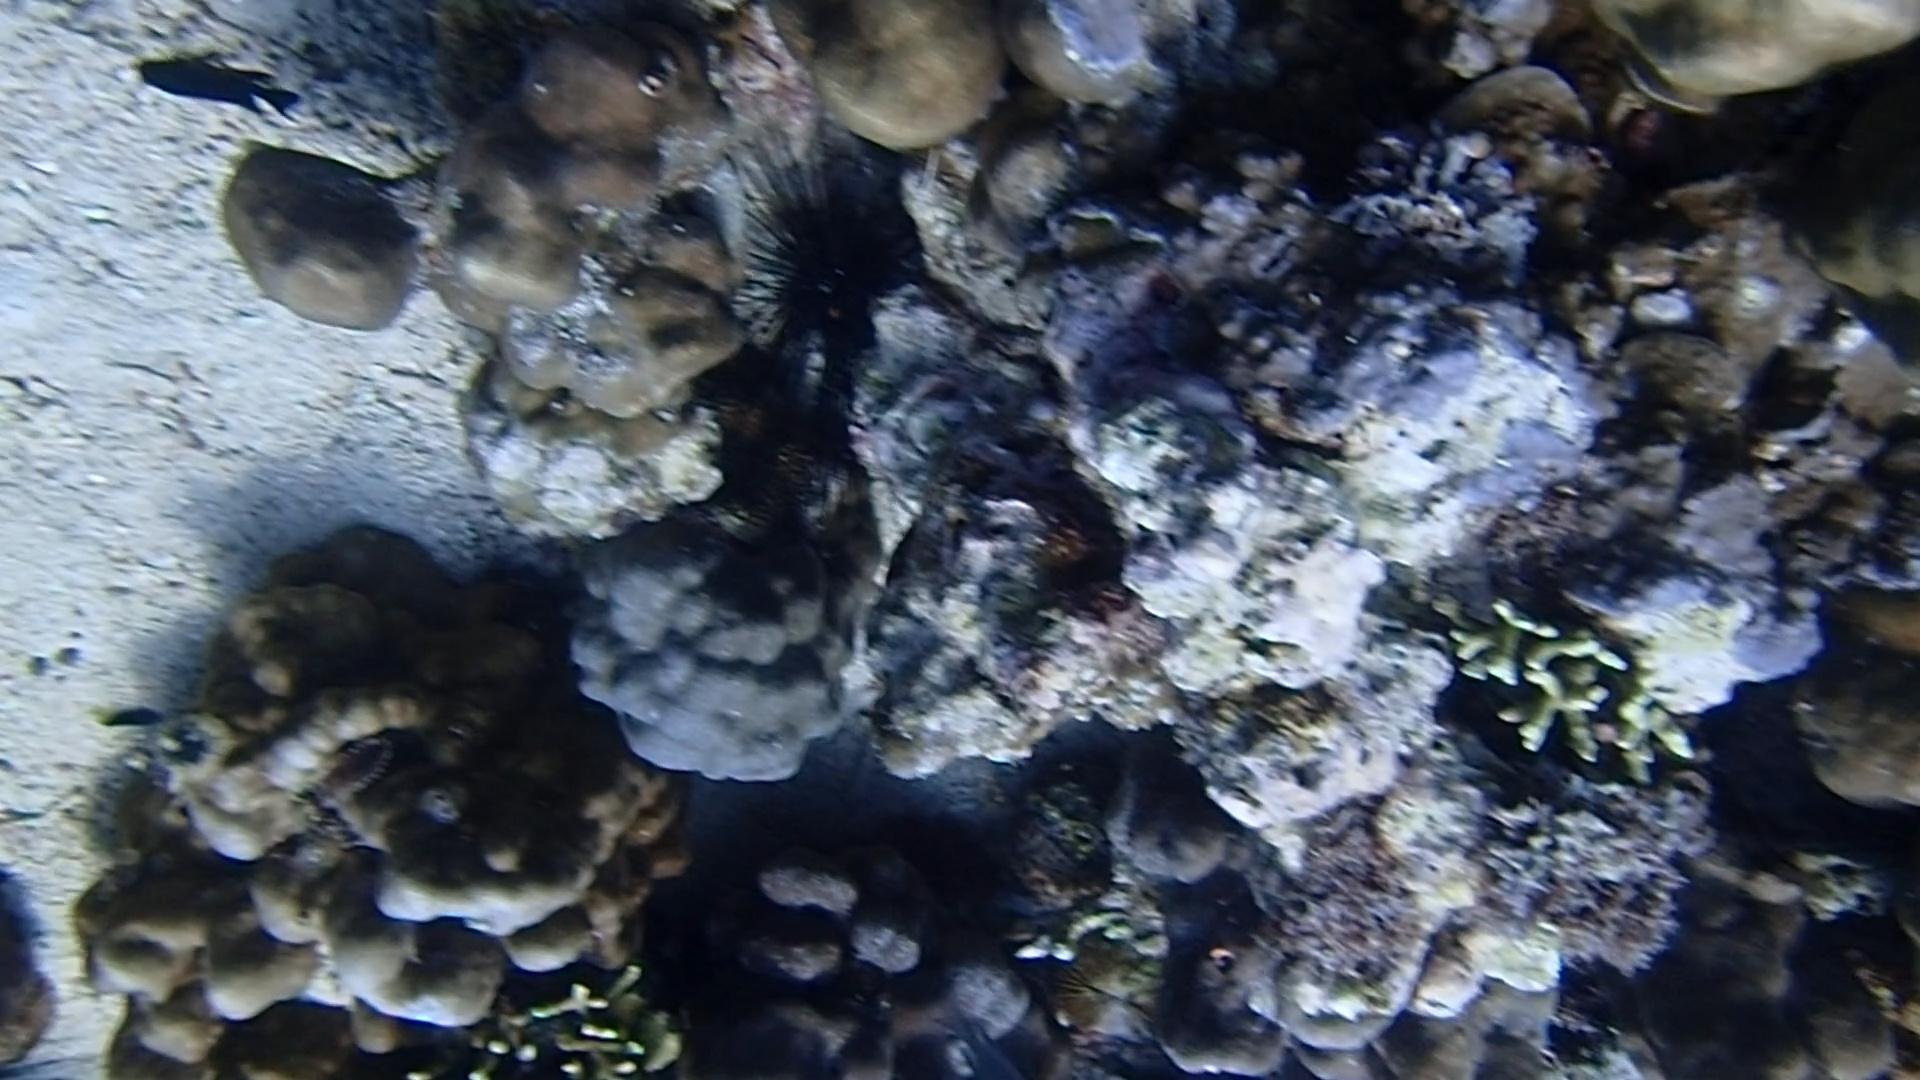Dark Fish: (125, 37, 305, 133)
Yellow Tail: (87, 698, 173, 746)
